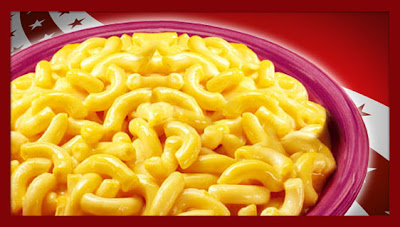macncheese: (5, 28, 336, 215)
